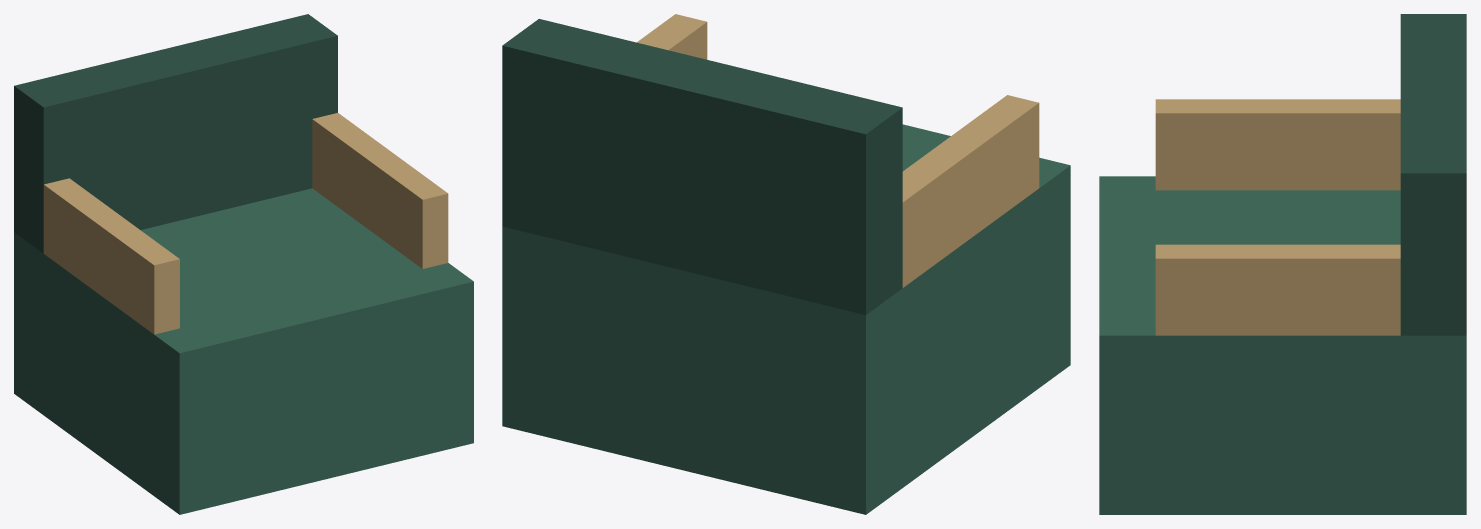
File: pi5d-lounge-chair.glb
The picture shows the model from 3 angles, left to right: view 1: azimuth 30°, elevation 25°; view 2: azimuth 150°, elevation 25°; view 3: azimuth 270°, elevation 25°; orthographic projection. The views are drawn at different scales.
Parts seen in each view (by area): view 1: seat, back, armRight, armLeft; view 2: seat, back, armLeft, armRight; view 3: seat, armLeft, armRight, back.
Boxes of the visible parts, box(x1,y1,x2,y2) form: seat: box(14, 188, 473, 514); back: box(14, 14, 337, 253); armRight: box(312, 113, 448, 268); armLeft: box(43, 178, 179, 334); seat: box(502, 124, 1070, 514); back: box(502, 19, 902, 314); armLeft: box(902, 95, 1039, 287); armRight: box(637, 14, 707, 59); seat: box(1099, 176, 1466, 514); armLeft: box(1155, 99, 1400, 190); armRight: box(1155, 244, 1400, 335); back: box(1400, 14, 1466, 335).
Size of the model in its own units: 0.8 by 0.8 by 0.78.
